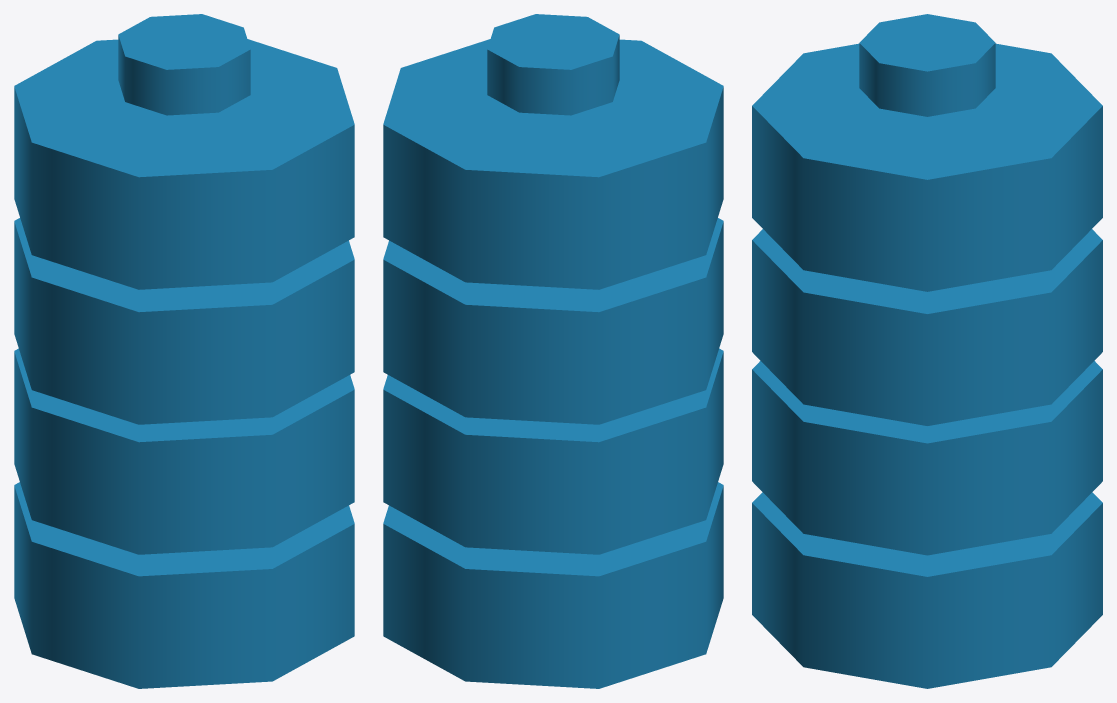
Rendered from battery_c.fbx.
The picture shows the model from 3 angles, left to right: view 1: azimuth 30°, elevation 25°; view 2: azimuth 150°, elevation 25°; view 3: azimuth 270°, elevation 25°; orthographic projection.
Visible parts, largest first — view 1: battery_c; view 2: battery_c; view 3: battery_c.
Boxes of the visible parts, x1,y1,x2,y2 form: battery_c: (14, 14, 354, 688); battery_c: (383, 14, 723, 688); battery_c: (752, 14, 1102, 688).
Size of the model in its own units: 0.0941 by 0.1693 by 0.0941.
